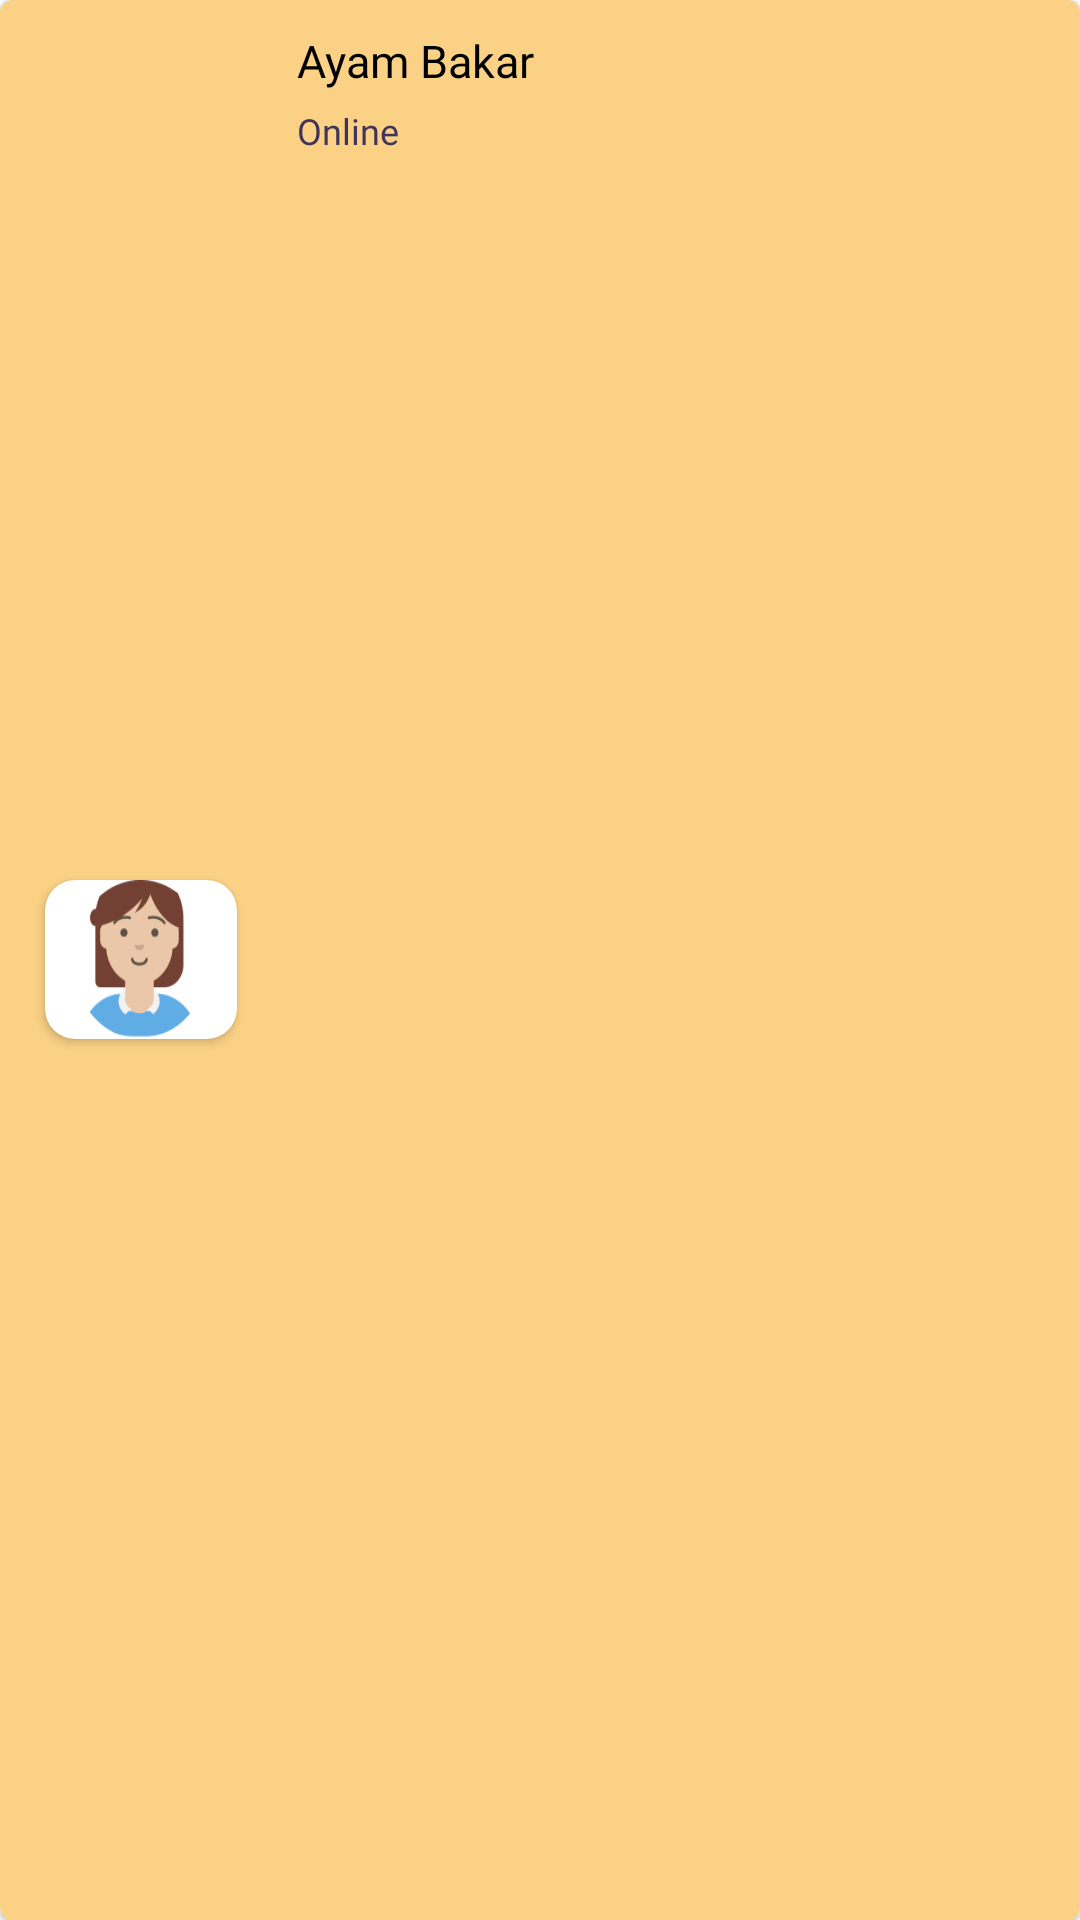

Icons on this 1080px×1920px Android screen, each with the point to tap as (x=x, y=y):
profil: (x=131, y=959)
